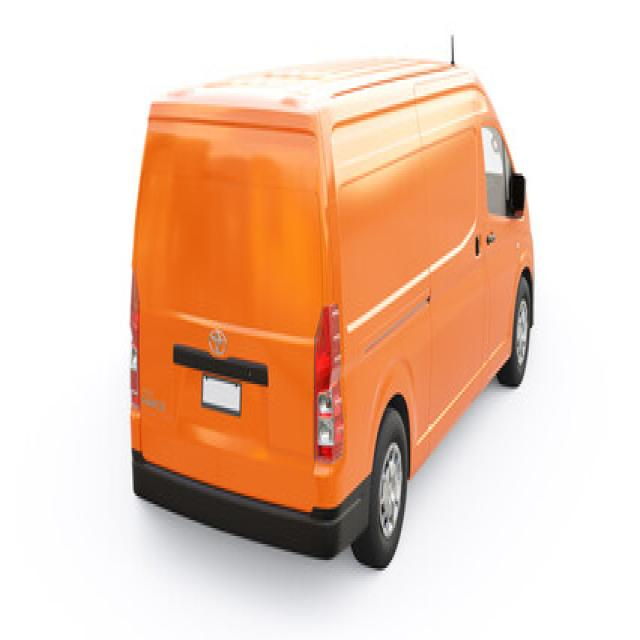van: (131, 61, 533, 568)
